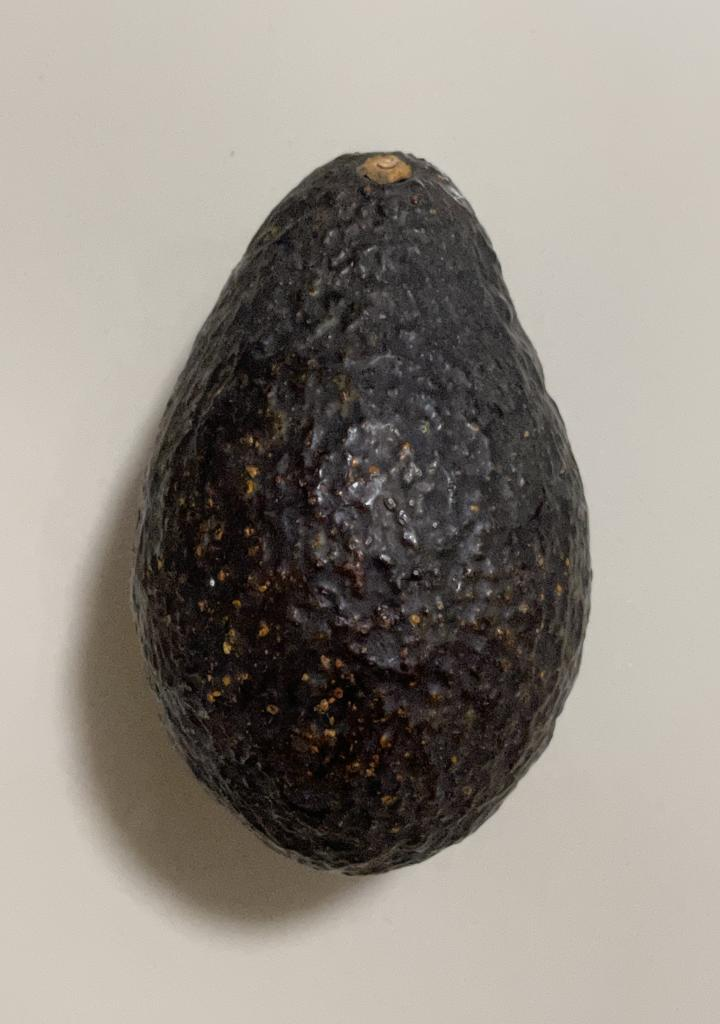Level2: (119, 145, 604, 882)
